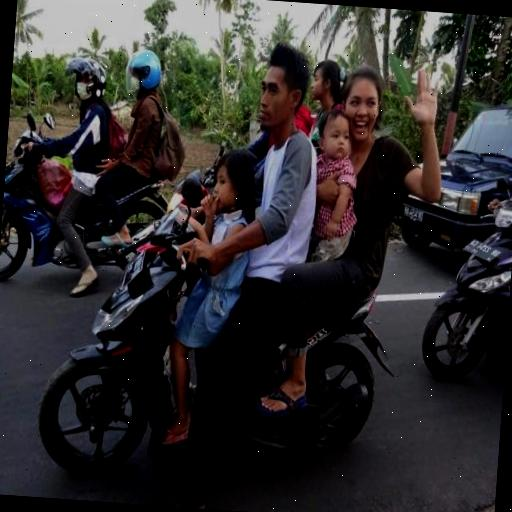helmet: (58, 34, 114, 160)
no helmet: (246, 32, 314, 138)
triple riding: (182, 11, 512, 374)
